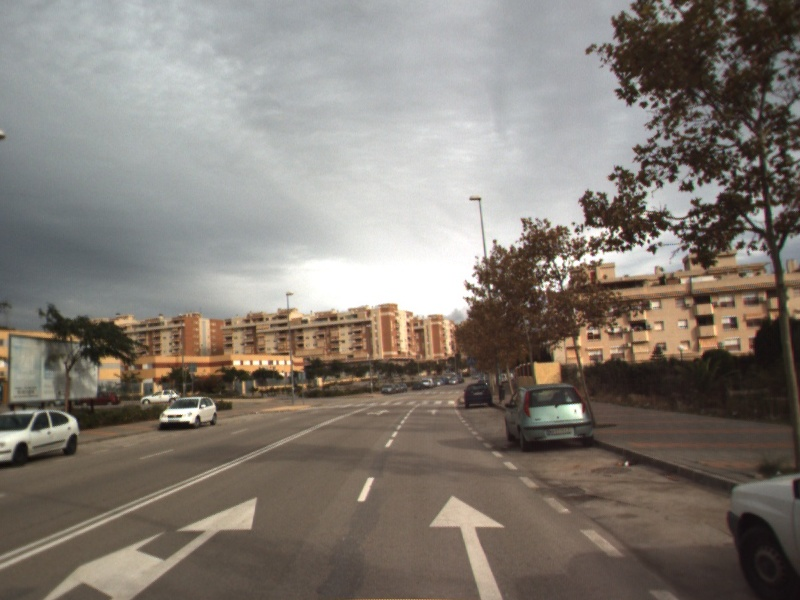STRAIGHT: (426, 493, 508, 600), (425, 407, 443, 416)
STRAIGHT_LEFT: (40, 495, 260, 600), (364, 408, 392, 417)
